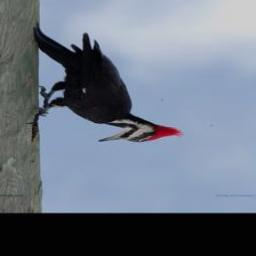Woodpecker: (27, 24, 184, 144)
